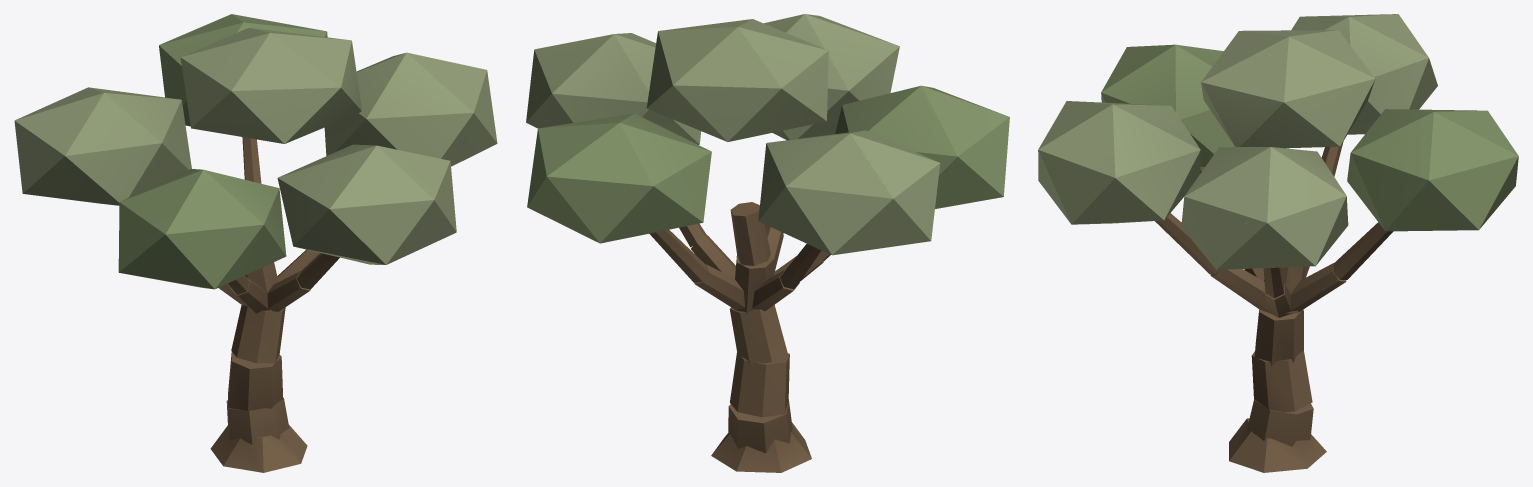
File: olive.glb
3 views of the same model, side by side, from view 1: azimuth 30°, elevation 25°; view 2: azimuth 150°, elevation 25°; view 3: azimuth 270°, elevation 25° (orthographic). The views are drawn at different scales.
Parts seen in each view (by area): view 1: olive.001; view 2: olive.001; view 3: olive.001.
Boxes of the visible parts, box(x1,y1,x2,y2) form: olive.001: box(14, 14, 497, 472); olive.001: box(526, 14, 1009, 472); olive.001: box(1038, 14, 1518, 472).
Bounding box in the file's own units: 3.52 × 3.29 × 3.35.
